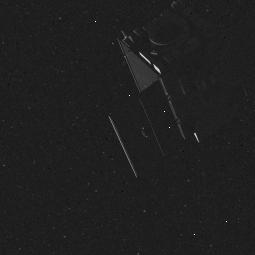proba_2: (111, 15, 215, 175)
